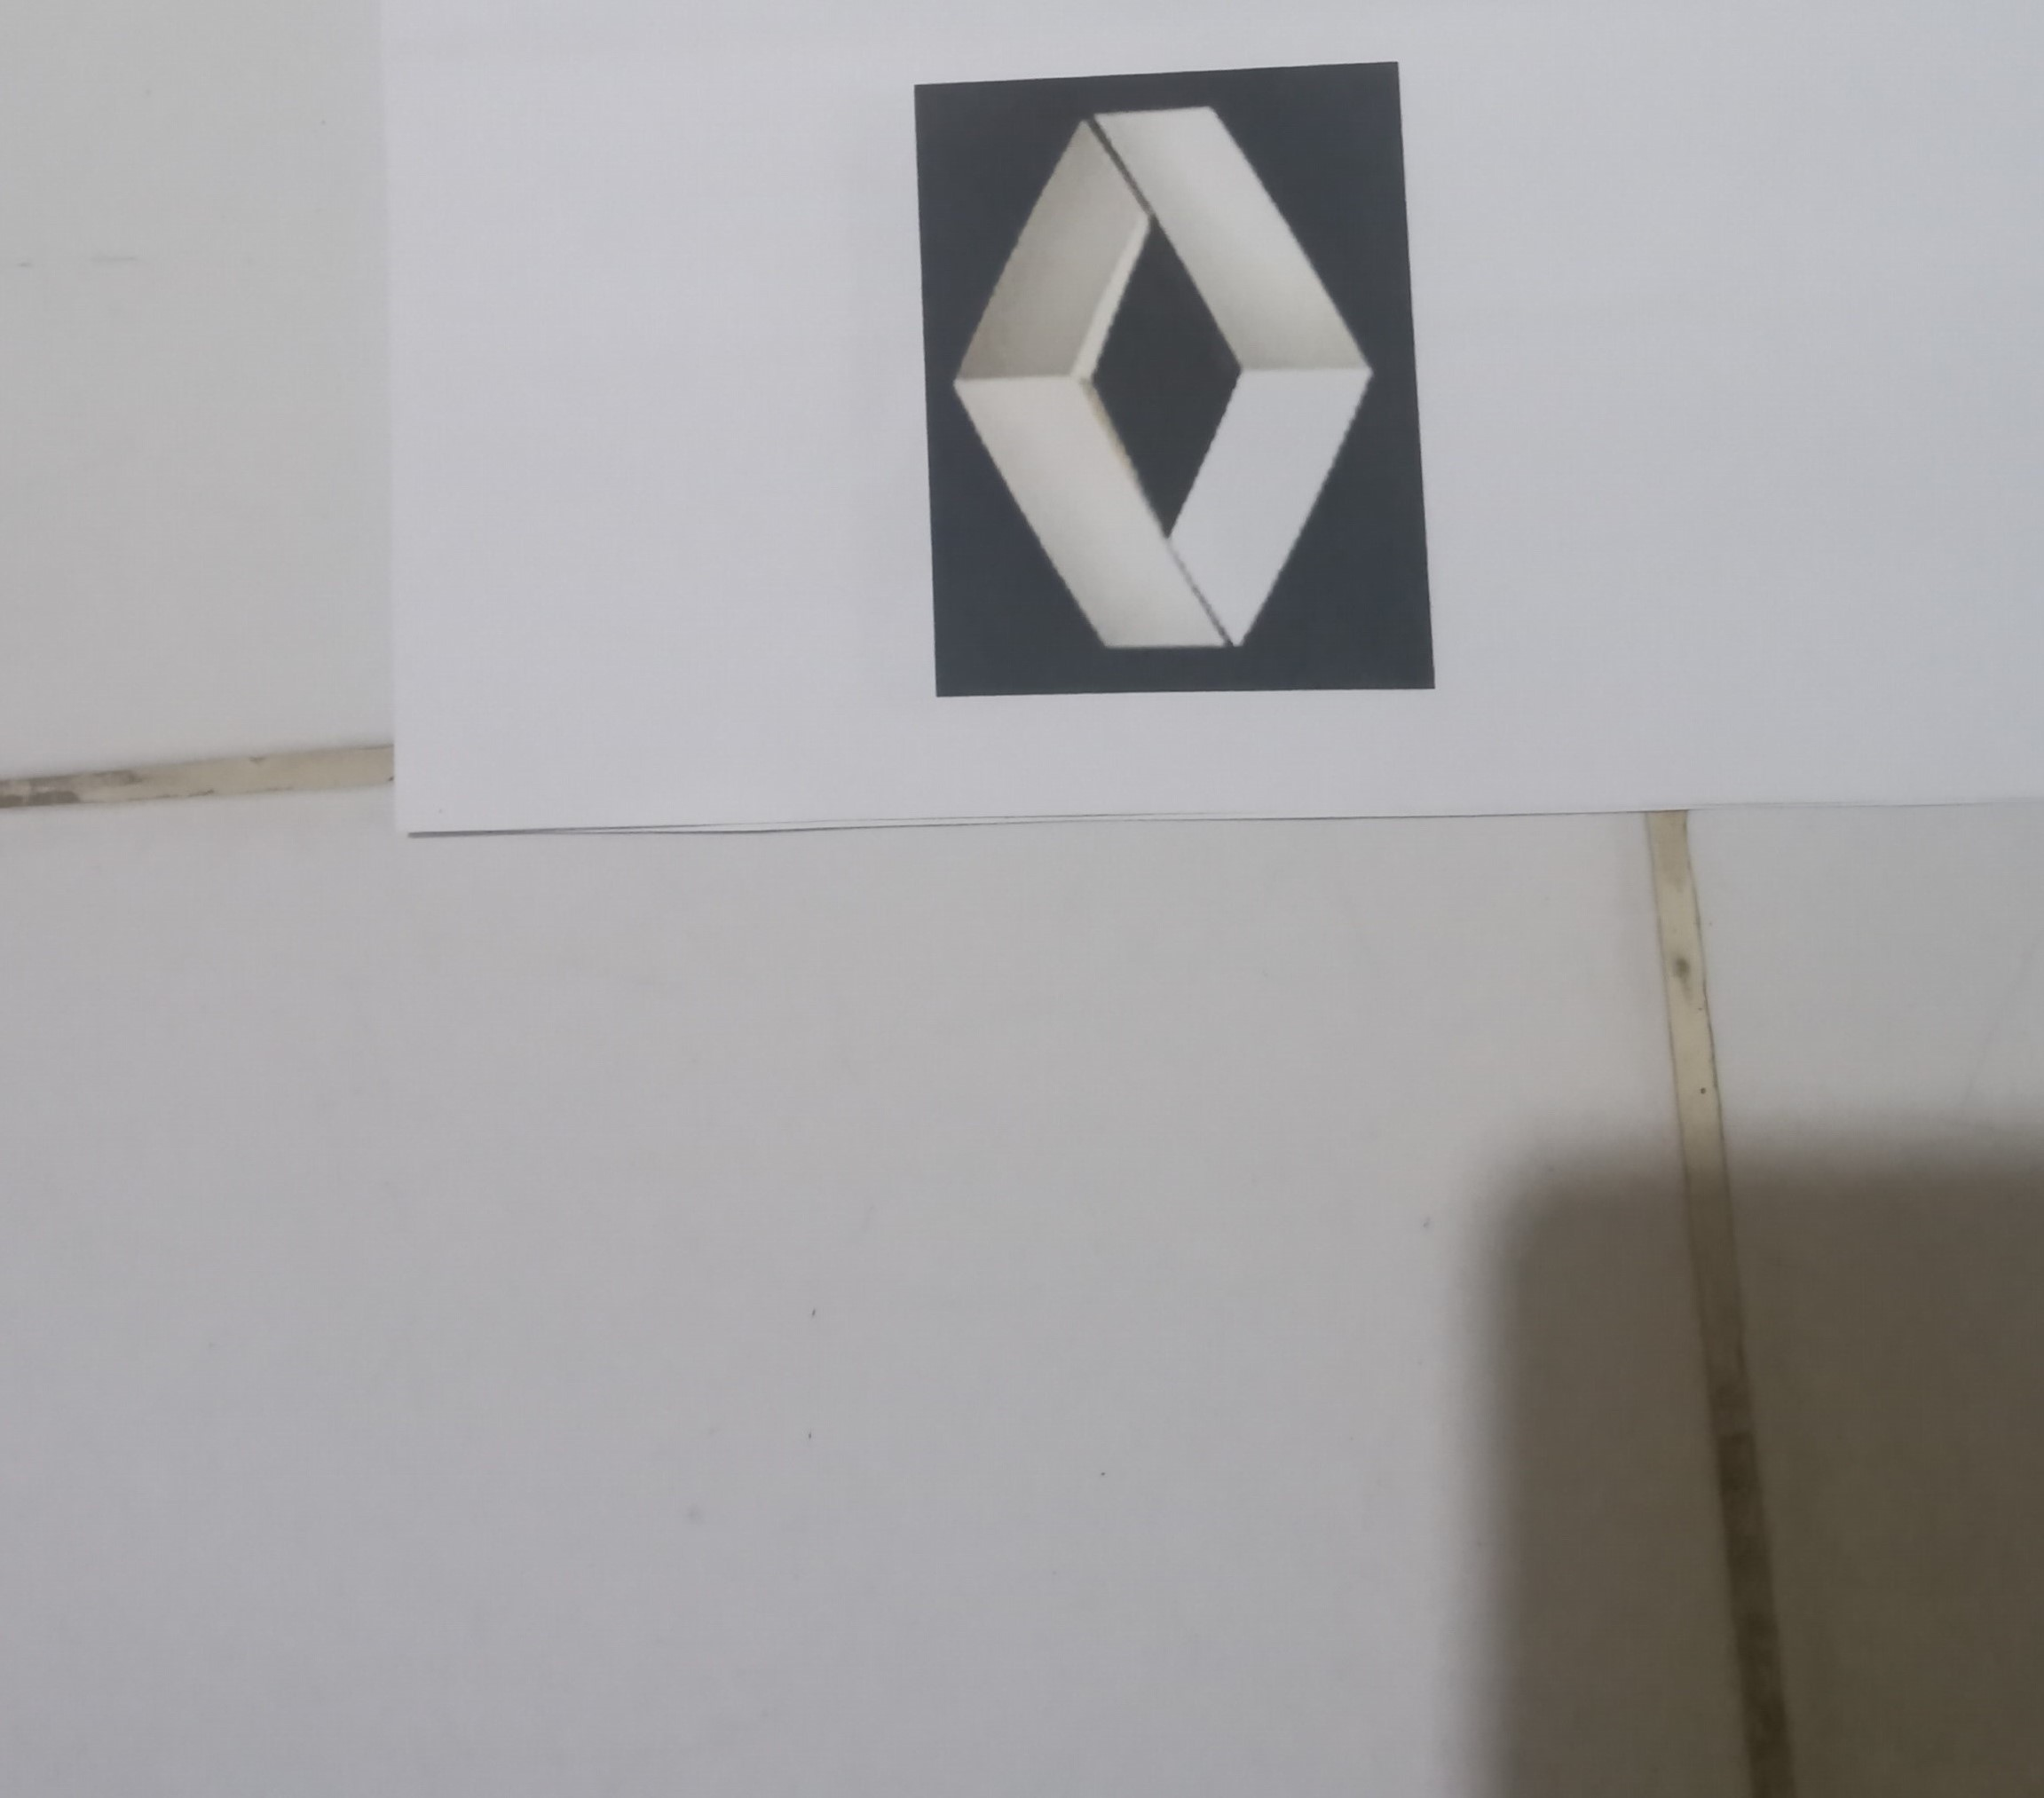Renault: (935, 92, 1403, 669)
